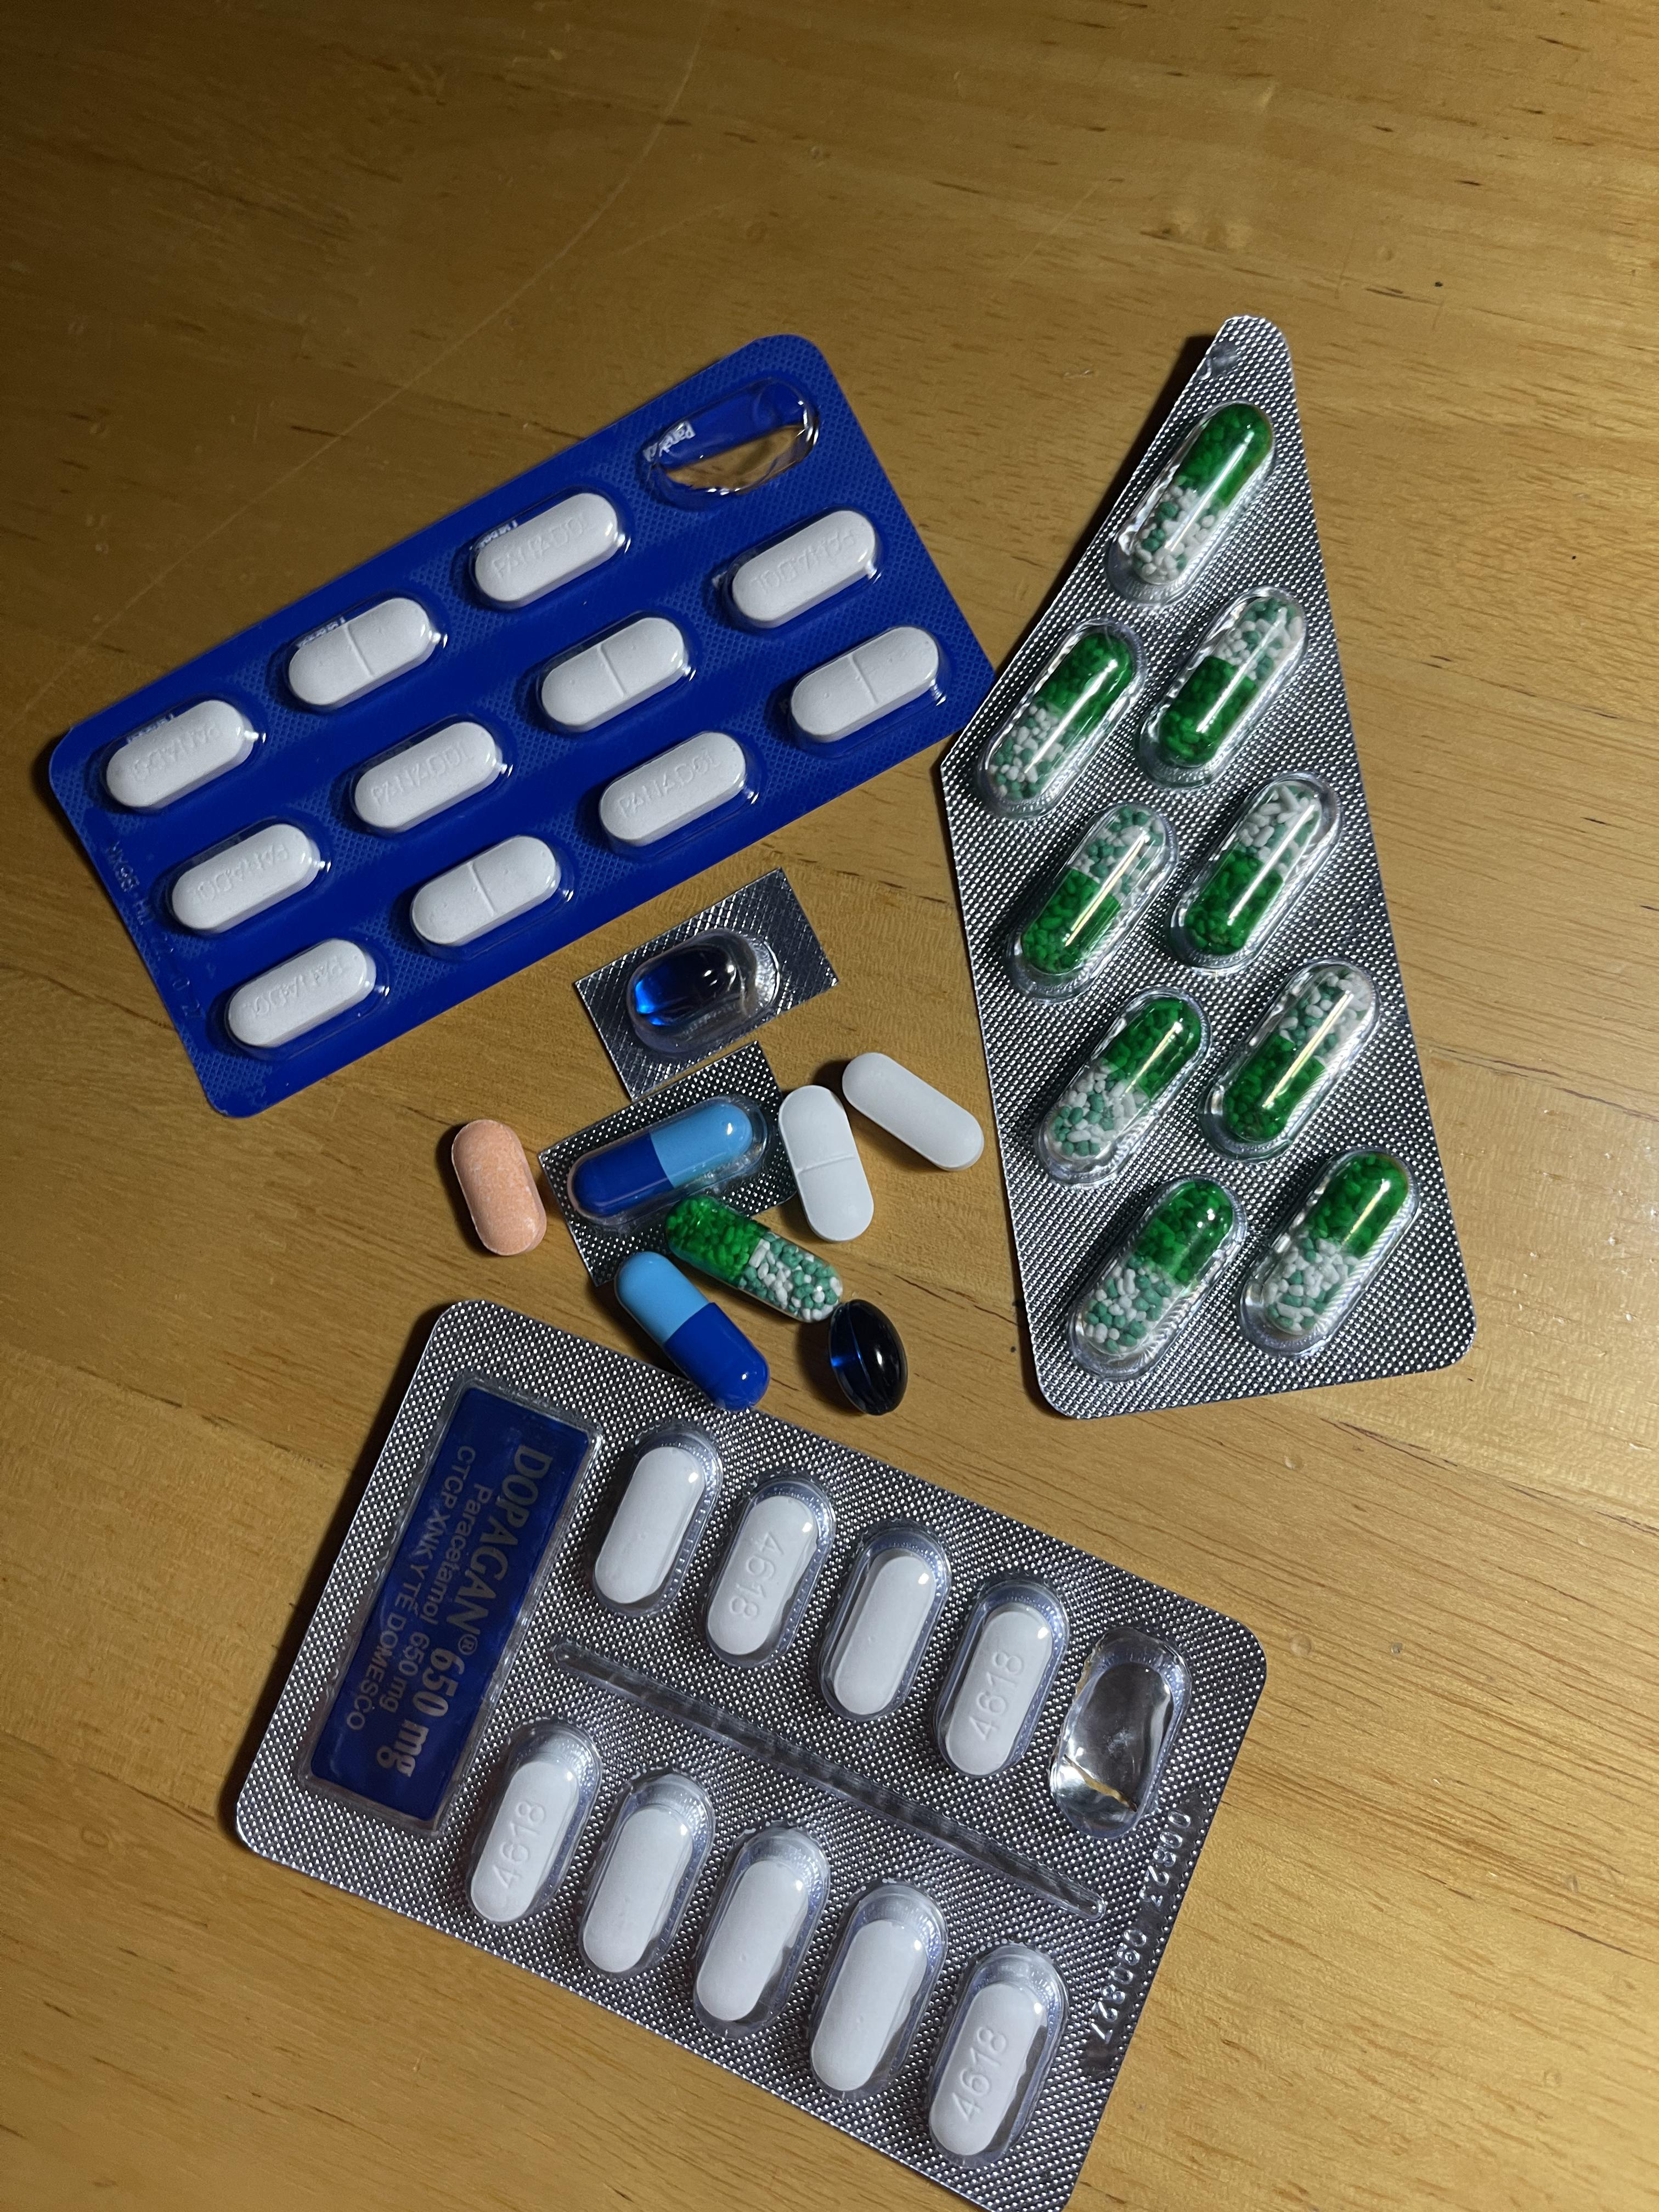Lincomyxin_500mg: (627, 937, 762, 1045), (830, 1296, 911, 1413)
Loratadine_10mg: (451, 1116, 551, 1252)
Paracetamol_350mg: (720, 509, 884, 634), (788, 624, 946, 749), (166, 819, 326, 937), (469, 488, 624, 610), (345, 718, 504, 836), (535, 613, 690, 733), (598, 732, 755, 850), (105, 695, 260, 813), (221, 939, 380, 1052), (284, 596, 437, 712), (410, 836, 563, 949), (777, 1083, 877, 1242)
Paracetamol_500mg: (800, 1876, 950, 2101), (575, 1770, 718, 1984), (694, 1848, 819, 2031), (472, 1750, 586, 1926), (932, 1982, 1046, 2156), (943, 1606, 1053, 1775), (830, 1554, 943, 1717), (838, 1052, 983, 1172), (709, 1500, 817, 1660), (598, 1449, 708, 1602)
Paracetamol_650mg: (1199, 956, 1382, 1160), (1066, 1170, 1244, 1378), (1239, 1151, 1415, 1357), (1134, 585, 1309, 789), (1000, 786, 1171, 986), (1033, 986, 1208, 1181), (1103, 399, 1269, 603), (1166, 773, 1340, 967), (979, 617, 1143, 817), (662, 1193, 845, 1325)
pill: (563, 1094, 772, 1228), (617, 1251, 772, 1404)
